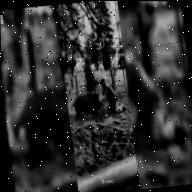boar: (67, 79, 107, 133)
